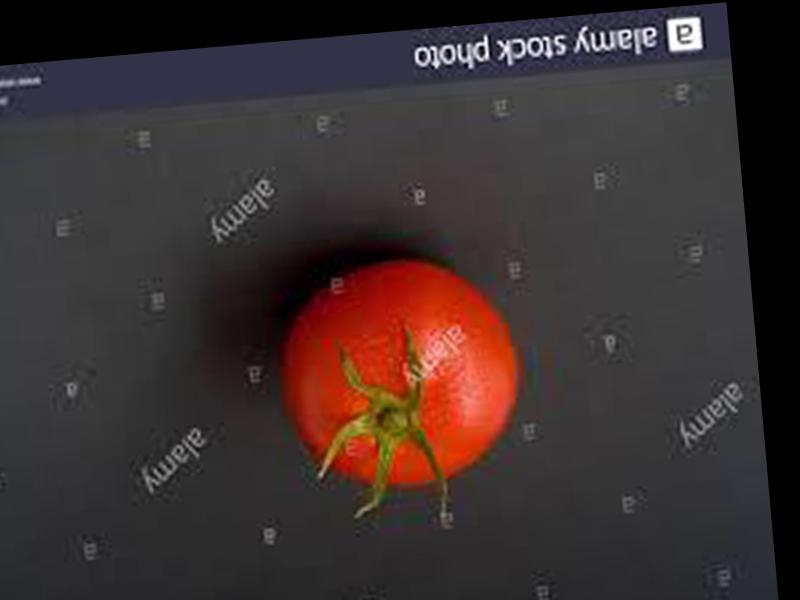Tomato: (271, 259, 528, 497)
